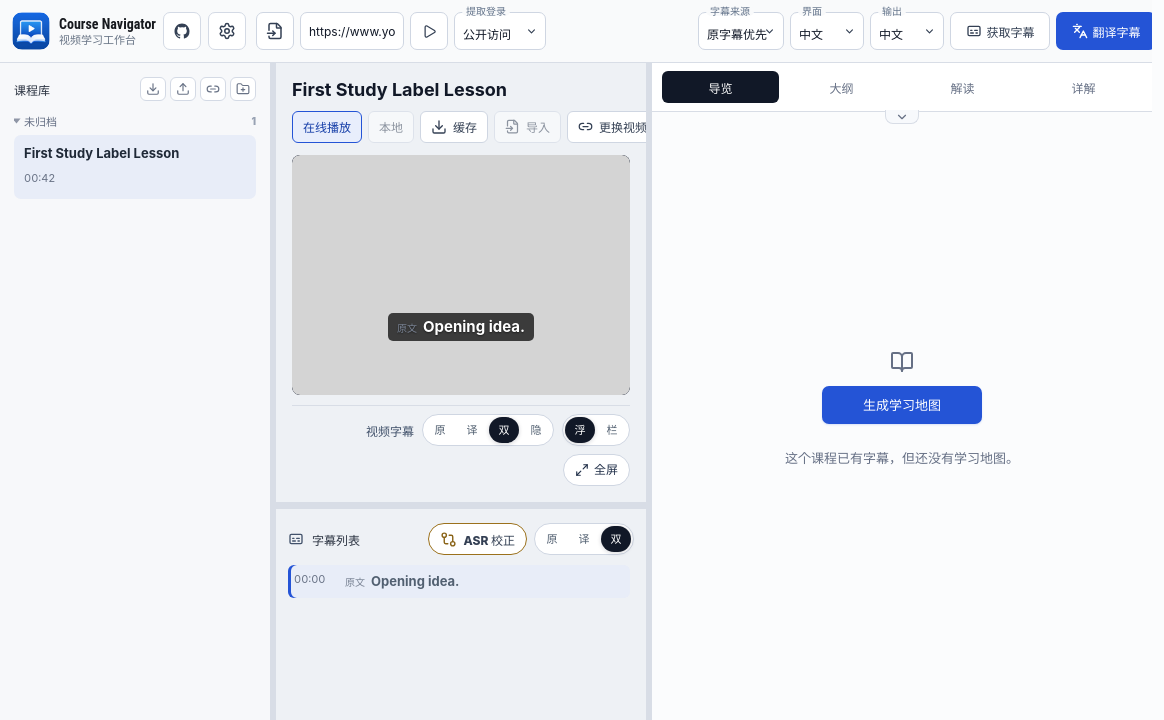
Test: App language defaults › labels first study-map generation as generation instead of regeneration
Click the button "生成学习地图" at (902,405), box [822,386,982,424]
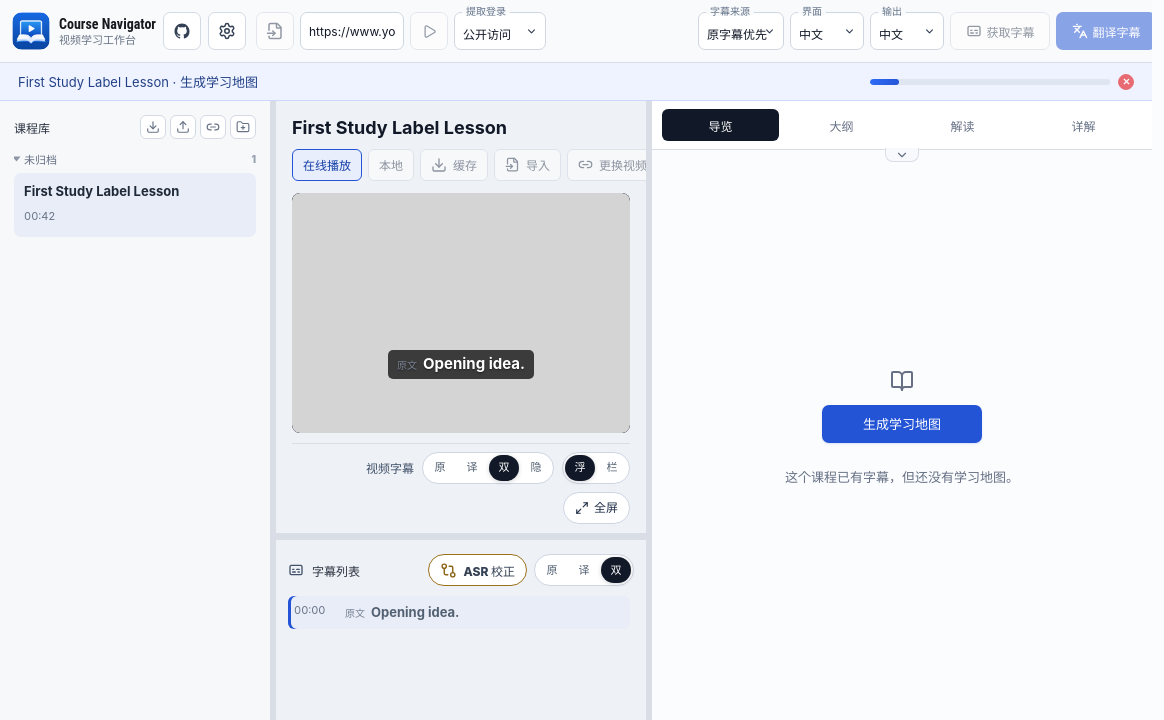
Check: the text "First Study Label Lesson · 生成学习地图" is shown, box [18,74,258,90]
